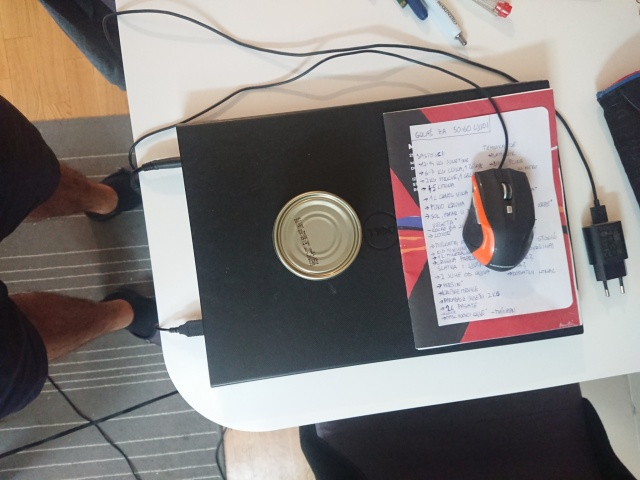Giana Tuna Salad Mexico 185g: (269, 187, 365, 284)
